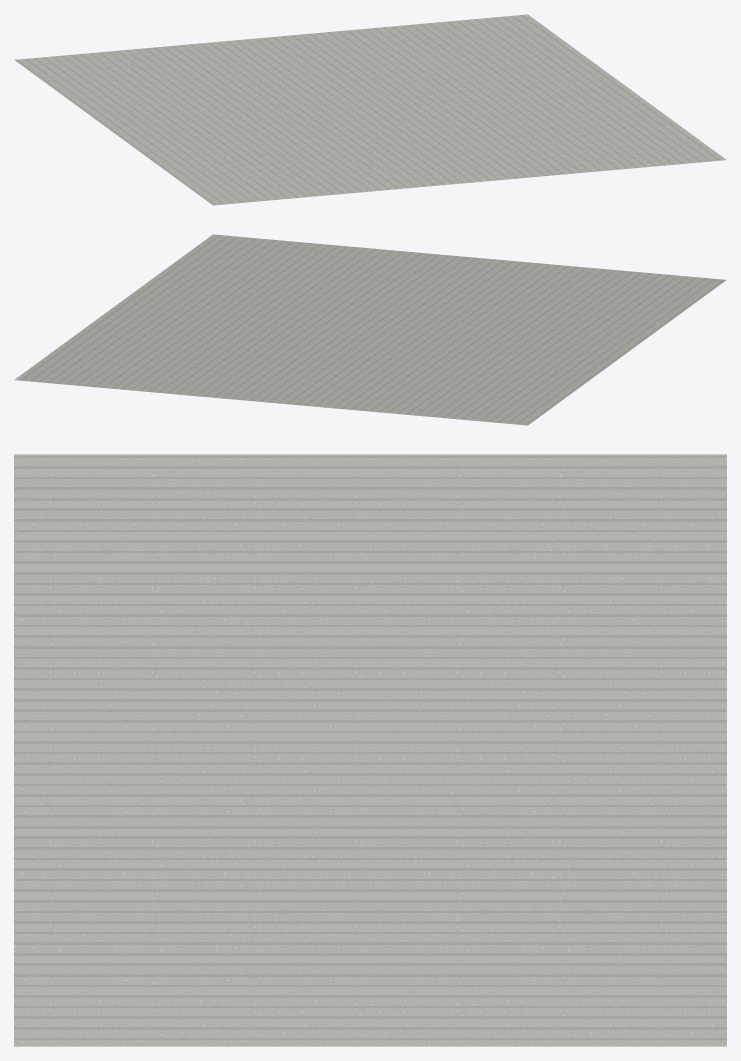
File: kd_stage_136282_1_57_bounded.glb
3 renders of one model, top to bottom at view 1: azimuth 30°, elevation 25°; view 2: azimuth 150°, elevation 25°; view 3: azimuth 270°, elevation 25°, orthographic. The views are drawn at different scales.
Parts seen in each view (by area): view 1: kd_stage_136282_1_57_bounded; view 2: kd_stage_136282_1_57_bounded; view 3: kd_stage_136282_1_57_bounded.
Part boxes in pixels (box(x1,y1,x2,y2)): kd_stage_136282_1_57_bounded: box(14, 14, 726, 205); kd_stage_136282_1_57_bounded: box(14, 234, 726, 425); kd_stage_136282_1_57_bounded: box(14, 454, 726, 1046).
Bounding box in the file's own units: 3.36 × 0.5 × 2.26.
1 material, 1 textured.
